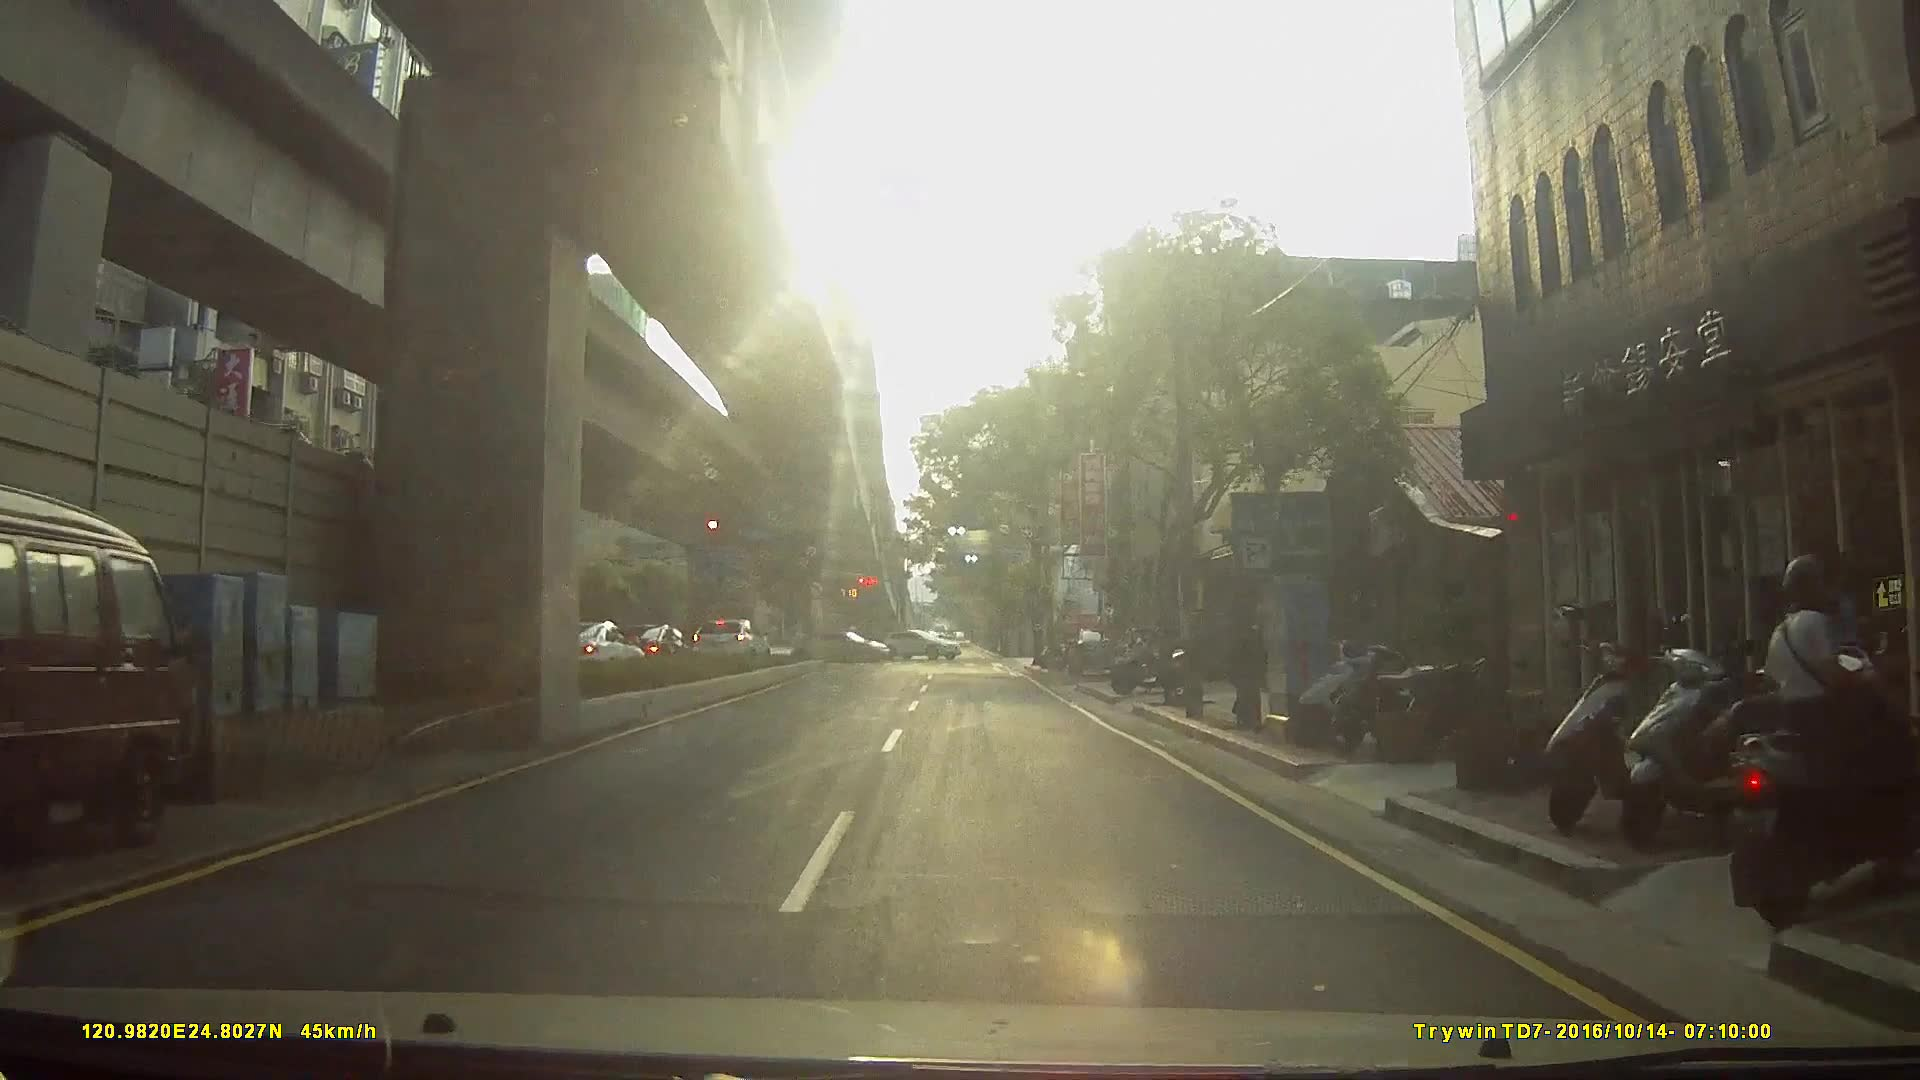rider: (1721, 560, 1902, 917)
vehicle: (1, 481, 227, 882), (611, 621, 698, 672), (687, 617, 770, 664), (794, 627, 892, 665), (1064, 625, 1120, 676), (879, 628, 963, 660)
